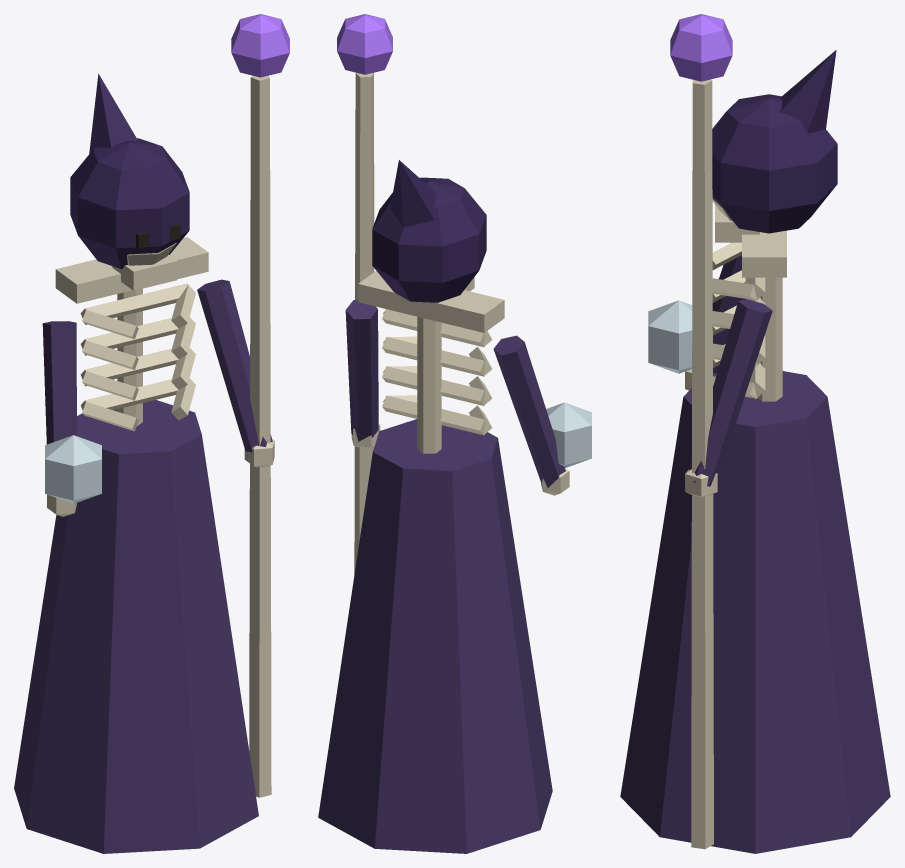
Rendered from knochenhexer.glb.
3 renders of one model, left to right at view 1: azimuth 30°, elevation 25°; view 2: azimuth 150°, elevation 25°; view 3: azimuth 270°, elevation 25°, orthographic. The views are drawn at different scales.
Size of the model in its own units: 0.698 by 2.05 by 0.6.
1 material, 1 textured.
